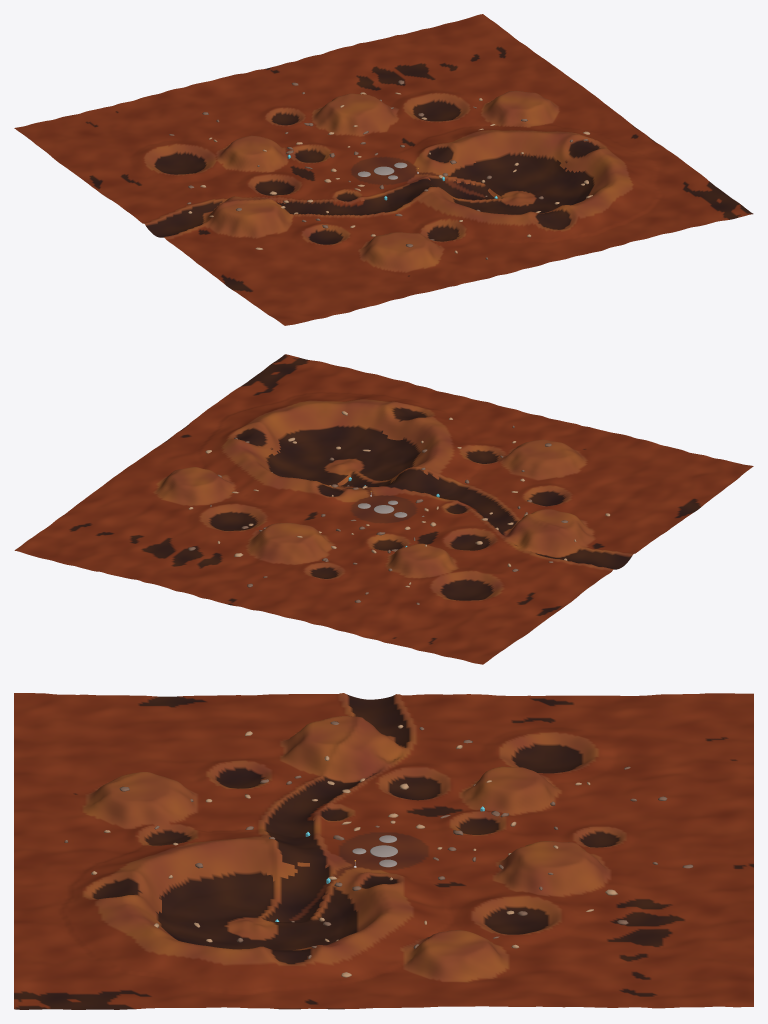
File: jezero-terrain.glb
The picture shows the model from 3 angles, top to bottom: view 1: azimuth 30°, elevation 25°; view 2: azimuth 150°, elevation 25°; view 3: azimuth 270°, elevation 25°; orthographic projection. The views are drawn at different scales.
Parts seen in each view (by area): view 1: Mars_Jezero_Crater_And_Plains; view 2: Mars_Jezero_Crater_And_Plains; view 3: Mars_Jezero_Crater_And_Plains.
Part boxes in pixels (bbox=[...]): Mars_Jezero_Crater_And_Plains: bbox=[14, 14, 753, 325]; Mars_Jezero_Crater_And_Plains: bbox=[14, 354, 753, 664]; Mars_Jezero_Crater_And_Plains: bbox=[14, 693, 753, 1009].
Bounding box in the file's own units: 360 × 26 × 360.
